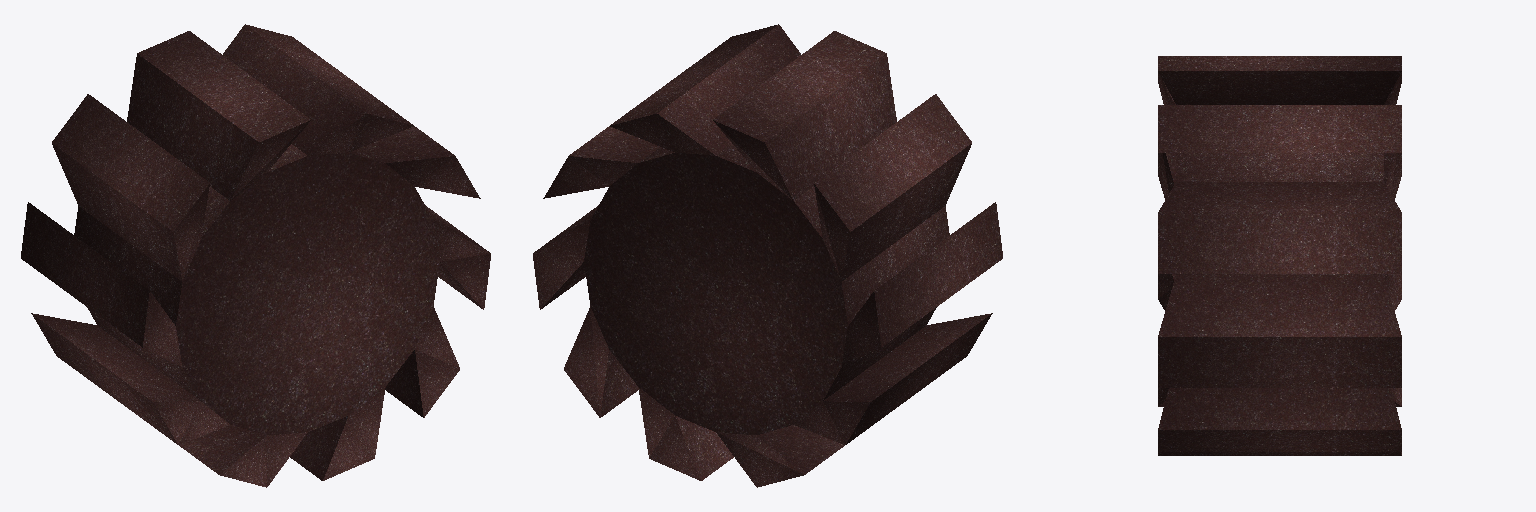
3 renders of one model, left to right at view 1: azimuth 30°, elevation 25°; view 2: azimuth 150°, elevation 25°; view 3: azimuth 270°, elevation 25°, orthographic.
Visible parts, largest first — view 1: pCylinder1; view 2: pCylinder1; view 3: pCylinder1.
Boxes of the visible parts, x1=… form: pCylinder1: x1=21, y1=24, x2=490, y2=487; pCylinder1: x1=533, y1=24, x2=1002, y2=487; pCylinder1: x1=1158, y1=56, x2=1401, y2=455.
Bounding box in the file's own units: 30.91 × 30.83 × 18.73.
Materials: 1 (1 with a texture image).